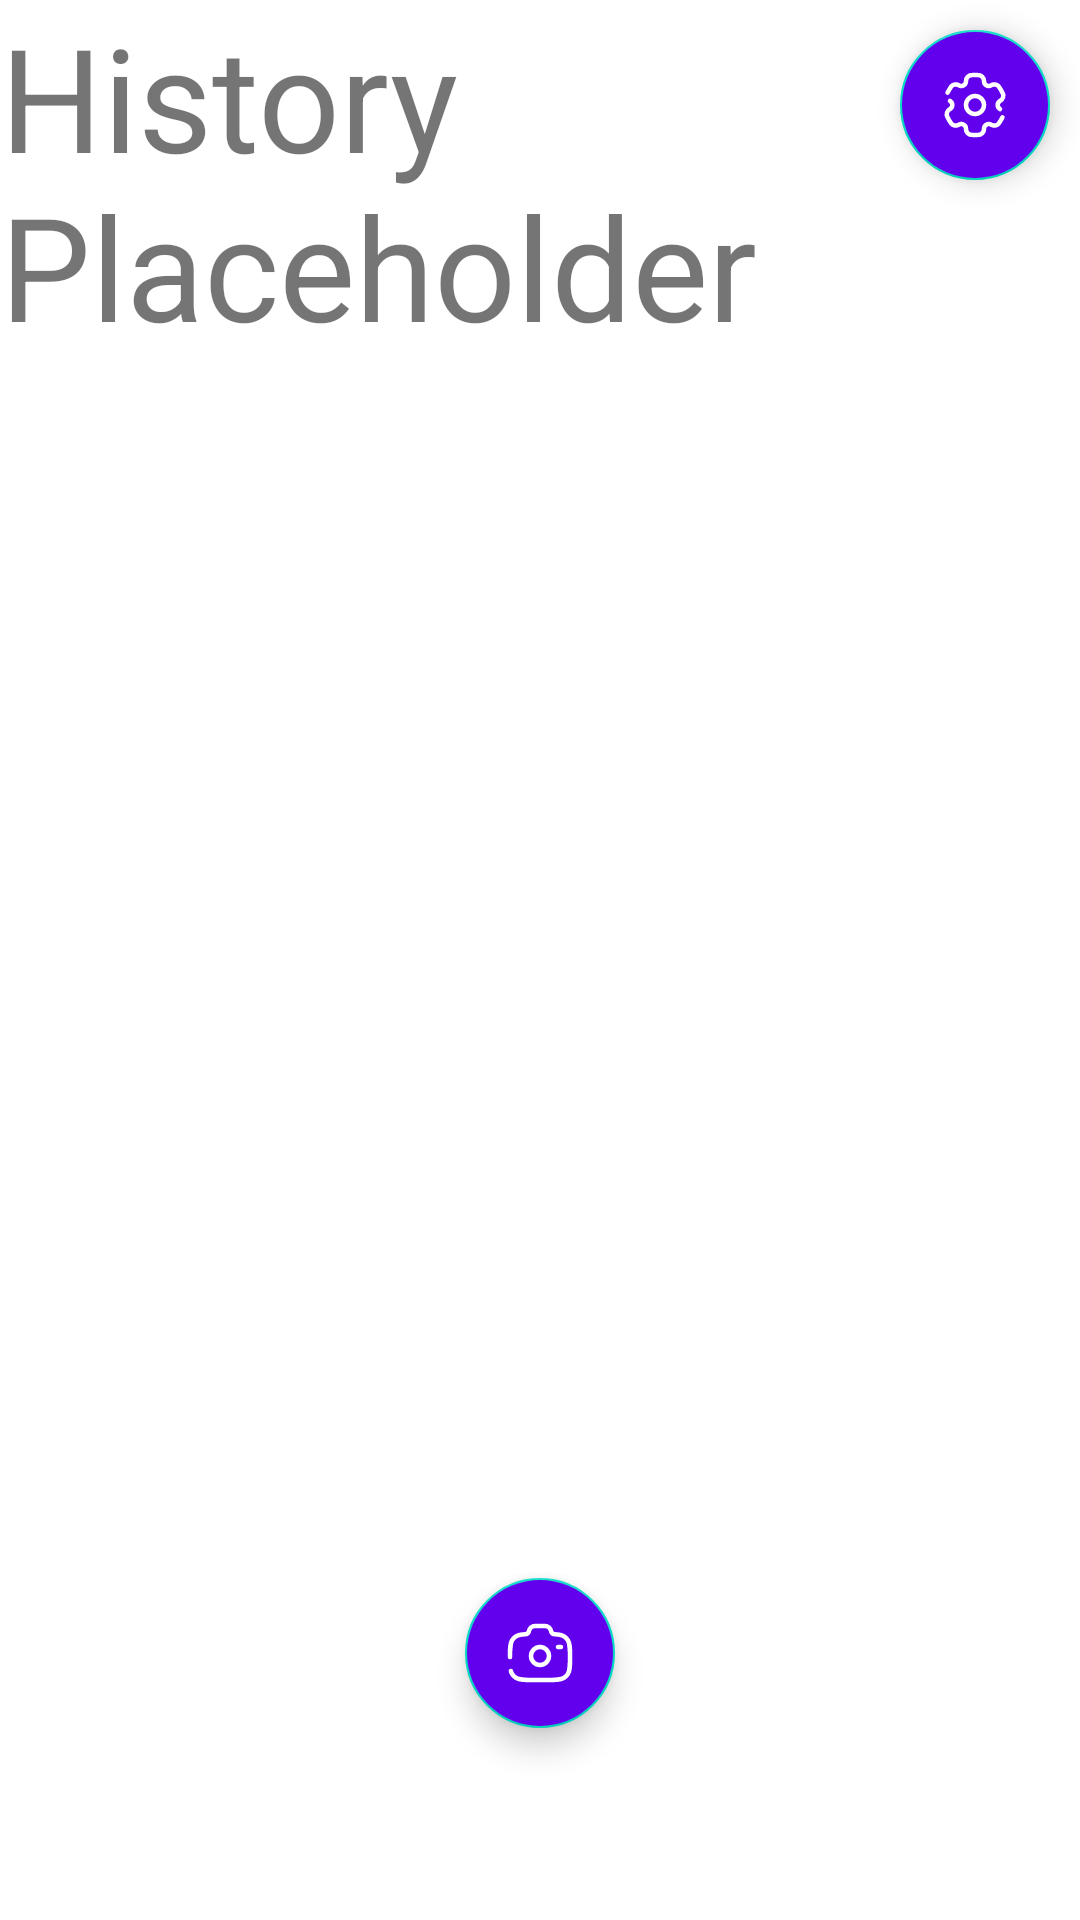

Named icons in this screenshot (1080px×1920px) and their bounding boxes, (x1, y1, x2, y2):
Camera: (465, 1578, 615, 1728)
Settings: (900, 30, 1050, 180)
